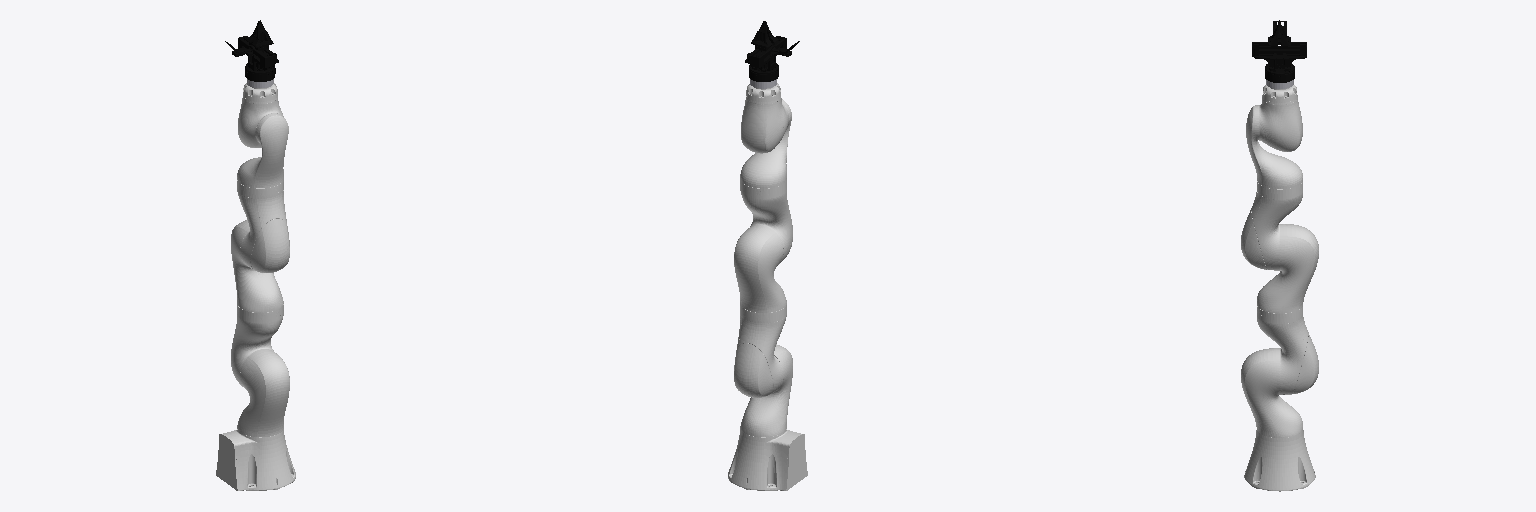
URDF robot description (lbr_iiwa7_r800):
<?xml version='1.0' encoding='utf-8'?>
<robot name="lbr_iiwa7_r800">
  <!-- KUKA LBR iiwa7 R800 (lbr-stack v2.5.0 meshes) + HandUMI gripper on lbr_link_ee. Generated from ~/Downloads/handumi_kuka_iiwa7/iiwa7/iiwa7_handumi.urdf: arm inertials added (approximate), arm collisions = visual meshes, mimic removed (drive both finger joints; q = opening/2 [m], 0..0.037). -->
  <link name="lbr_link_0">
    <inertial>
      <origin xyz="-0.1 0 0.07" rpy="0 0 0" />
      <mass value="3.0" />
      <inertia ixx="0.02" ixy="0" ixz="0" iyy="0.02" iyz="0" izz="0.02" />
    </inertial>
    <visual>
      <origin xyz="0 0 0" rpy="0 0 0" />
      <geometry>
        <mesh filename="meshes/arm/link_0.stl" />
      </geometry>
      <material name="kuka_grey">
        <color rgba="0.85 0.85 0.85 1" />
      </material>
    </visual>
    <collision>
      <origin xyz="0 0 0" rpy="0 0 0" />
      <geometry>
        <mesh filename="meshes/arm/link_0.stl" />
      </geometry>
    </collision>
  </link>
  <link name="lbr_link_1">
    <inertial>
      <origin xyz="0 -0.03 0.12" rpy="0 0 0" />
      <mass value="3.4525" />
      <inertia ixx="0.02" ixy="0" ixz="0" iyy="0.02" iyz="0" izz="0.02" />
    </inertial>
    <visual>
      <origin xyz="0 0 -0.1475" rpy="0 0 0" />
      <geometry>
        <mesh filename="meshes/arm/link_1.stl" />
      </geometry>
      <material name="kuka_grey">
        <color rgba="0.85 0.85 0.85 1" />
      </material>
    </visual>
    <collision>
      <origin xyz="0 0 -0.1475" rpy="0 0 0" />
      <geometry>
        <mesh filename="meshes/arm/link_1.stl" />
      </geometry>
    </collision>
  </link>
  <link name="lbr_link_2">
    <inertial>
      <origin xyz="0.0003 0.059 0.042" rpy="0 0 0" />
      <mass value="3.4821" />
      <inertia ixx="0.02" ixy="0" ixz="0" iyy="0.02" iyz="0" izz="0.02" />
    </inertial>
    <visual>
      <origin xyz="0 0.0105 -0.34" rpy="0 0 0" />
      <geometry>
        <mesh filename="meshes/arm/link_2.stl" />
      </geometry>
      <material name="kuka_grey">
        <color rgba="0.85 0.85 0.85 1" />
      </material>
    </visual>
    <collision>
      <origin xyz="0 0.0105 -0.34" rpy="0 0 0" />
      <geometry>
        <mesh filename="meshes/arm/link_2.stl" />
      </geometry>
    </collision>
  </link>
  <link name="lbr_link_3">
    <inertial>
      <origin xyz="0 0.03 0.13" rpy="0 0 0" />
      <mass value="4.05623" />
      <inertia ixx="0.02" ixy="0" ixz="0" iyy="0.02" iyz="0" izz="0.02" />
    </inertial>
    <visual>
      <origin xyz="0 0 -0.5475" rpy="0 0 0" />
      <geometry>
        <mesh filename="meshes/arm/link_3.stl" />
      </geometry>
      <material name="kuka_grey">
        <color rgba="0.85 0.85 0.85 1" />
      </material>
    </visual>
    <collision>
      <origin xyz="0 0 -0.5475" rpy="0 0 0" />
      <geometry>
        <mesh filename="meshes/arm/link_3.stl" />
      </geometry>
    </collision>
  </link>
  <link name="lbr_link_4">
    <inertial>
      <origin xyz="0 0.067 0.034" rpy="0 0 0" />
      <mass value="3.4822" />
      <inertia ixx="0.02" ixy="0" ixz="0" iyy="0.02" iyz="0" izz="0.02" />
    </inertial>
    <visual>
      <origin xyz="0 -0.0105 -0.74" rpy="0 0 0" />
      <geometry>
        <mesh filename="meshes/arm/link_4.stl" />
      </geometry>
      <material name="kuka_grey">
        <color rgba="0.85 0.85 0.85 1" />
      </material>
    </visual>
    <collision>
      <origin xyz="0 -0.0105 -0.74" rpy="0 0 0" />
      <geometry>
        <mesh filename="meshes/arm/link_4.stl" />
      </geometry>
    </collision>
  </link>
  <link name="lbr_link_5">
    <inertial>
      <origin xyz="0.0001 0.021 0.076" rpy="0 0 0" />
      <mass value="2.1633" />
      <inertia ixx="0.02" ixy="0" ixz="0" iyy="0.02" iyz="0" izz="0.02" />
    </inertial>
    <visual>
      <origin xyz="0 0 -0.9475" rpy="0 0 0" />
      <geometry>
        <mesh filename="meshes/arm/link_5.stl" />
      </geometry>
      <material name="kuka_grey">
        <color rgba="0.85 0.85 0.85 1" />
      </material>
    </visual>
    <collision>
      <origin xyz="0 0 -0.9475" rpy="0 0 0" />
      <geometry>
        <mesh filename="meshes/arm/link_5.stl" />
      </geometry>
    </collision>
  </link>
  <link name="lbr_link_6">
    <inertial>
      <origin xyz="0 0.0006 0.0004" rpy="0 0 0" />
      <mass value="2.3466" />
      <inertia ixx="0.02" ixy="0" ixz="0" iyy="0.02" iyz="0" izz="0.02" />
    </inertial>
    <visual>
      <origin xyz="0 0.0707 -1.14" rpy="0 0 0" />
      <geometry>
        <mesh filename="meshes/arm/link_6.stl" />
      </geometry>
      <material name="kuka_grey">
        <color rgba="0.85 0.85 0.85 1" />
      </material>
    </visual>
    <collision>
      <origin xyz="0 0.0707 -1.14" rpy="0 0 0" />
      <geometry>
        <mesh filename="meshes/arm/link_6.stl" />
      </geometry>
    </collision>
  </link>
  <link name="lbr_link_7">
    <inertial>
      <origin xyz="0 0 0.02" rpy="0 0 0" />
      <mass value="3.129" />
      <inertia ixx="0.02" ixy="0" ixz="0" iyy="0.02" iyz="0" izz="0.02" />
    </inertial>
    <visual>
      <origin xyz="0 0 -1.231" rpy="0 0 0" />
      <geometry>
        <mesh filename="meshes/arm/link_7.stl" />
      </geometry>
      <material name="kuka_grey">
        <color rgba="0.85 0.85 0.85 1" />
      </material>
    </visual>
    <collision>
      <origin xyz="0 0 -1.231" rpy="0 0 0" />
      <geometry>
        <mesh filename="meshes/arm/link_7.stl" />
      </geometry>
    </collision>
  </link>
  <joint name="lbr_A1" type="revolute">
    <origin xyz="0 0 0.1475" rpy="0 0 0" />
    <parent link="lbr_link_0" />
    <child link="lbr_link_1" />
    <axis xyz="0 0 1" />
    <limit lower="-2.9671" upper="2.9671" effort="200" velocity="2" />
  </joint>
  <joint name="lbr_A2" type="revolute">
    <origin xyz="0 -0.0105 0.1925" rpy="0 0 0" />
    <parent link="lbr_link_1" />
    <child link="lbr_link_2" />
    <axis xyz="0 1 0" />
    <limit lower="-2.0944" upper="2.0944" effort="200" velocity="2" />
  </joint>
  <joint name="lbr_A3" type="revolute">
    <origin xyz="0 0.0105 0.2075" rpy="0 0 0" />
    <parent link="lbr_link_2" />
    <child link="lbr_link_3" />
    <axis xyz="0 0 1" />
    <limit lower="-2.9671" upper="2.9671" effort="200" velocity="2" />
  </joint>
  <joint name="lbr_A4" type="revolute">
    <origin xyz="0 0.0105 0.1925" rpy="0 0 0" />
    <parent link="lbr_link_3" />
    <child link="lbr_link_4" />
    <axis xyz="0 -1 0" />
    <limit lower="-2.0944" upper="2.0944" effort="200" velocity="2" />
  </joint>
  <joint name="lbr_A5" type="revolute">
    <origin xyz="0 -0.0105 0.2075" rpy="0 0 0" />
    <parent link="lbr_link_4" />
    <child link="lbr_link_5" />
    <axis xyz="0 0 1" />
    <limit lower="-2.9671" upper="2.9671" effort="200" velocity="2" />
  </joint>
  <joint name="lbr_A6" type="revolute">
    <origin xyz="0 -0.0707 0.1925" rpy="0 0 0" />
    <parent link="lbr_link_5" />
    <child link="lbr_link_6" />
    <axis xyz="0 1 0" />
    <limit lower="-2.0944" upper="2.0944" effort="200" velocity="2" />
  </joint>
  <joint name="lbr_A7" type="revolute">
    <origin xyz="0 0.0707 0.091" rpy="0 0 0" />
    <parent link="lbr_link_6" />
    <child link="lbr_link_7" />
    <axis xyz="0 0 1" />
    <limit lower="-3.0543" upper="3.0543" effort="200" velocity="2" />
  </joint>
  <link name="lbr_link_ee">
    <inertial>
      <origin xyz="0 0 0" rpy="0 0 0" />
      <mass value="0.001" />
      <inertia ixx="1e-07" ixy="0" ixz="0" iyy="1e-07" iyz="0" izz="1e-07" />
    </inertial>
  </link>
  <joint name="lbr_joint_ee" type="fixed">
    <origin xyz="0 0 0.035" rpy="0 0 0" />
    <parent link="lbr_link_7" />
    <child link="lbr_link_ee" />
  </joint>
  <link name="gripper_assembly_root">
    <inertial>
      <origin xyz="0 0 0" rpy="0 0 0" />
      <mass value="0.001" />
      <inertia ixx="1e-07" ixy="0" ixz="0" iyy="1e-07" iyz="0" izz="1e-07" />
    </inertial>
    <!-- media flange: fills the 22 mm from the iiwa flange face to the gripper mount plate -->
    <visual name="media_flange">
      <origin xyz="0 0 -0.011" rpy="0 0 0" />
      <geometry>
        <cylinder radius="0.04" length="0.022" />
      </geometry>
      <material name="media_flange">
        <color rgba="0.75 0.75 0.78 1" />
      </material>
    </visual>
    <collision>
      <origin xyz="0 0 -0.011" rpy="0 0 0" />
      <geometry>
        <cylinder radius="0.04" length="0.022" />
      </geometry>
    </collision>
  </link>
  <link name="gripper_cad_export">
    <inertial>
      <origin xyz="0 0 0" rpy="0 0 0" />
      <mass value="0.001" />
      <inertia ixx="1e-07" ixy="0" ixz="0" iyy="1e-07" iyz="0" izz="1e-07" />
    </inertial>
  </link>
  <link name="gripper_mount_for_kuka">
    <inertial>
      <origin xyz="-0.250492311 -0.00575342481 0.2274575" rpy="0 0 0" />
      <mass value="0.097339" />
      <inertia ixx="6.86726e-05" ixy="-1.4764e-09" ixz="-2.70074e-06" iyy="0.000127436" iyz="6.39343e-08" izz="6.8288e-05" />
    </inertial>
    <visual>
      <origin xyz="0 0 0" rpy="0 0 0" />
      <geometry>
        <mesh filename="meshes/gripper/mount_for_kuka.stl" scale="0.001 0.001 0.001" />
      </geometry>
      <material name="gripper_mat_mount_for_kuka">
        <color rgba="0.08 0.08 0.08 1" />
      </material>
    </visual>
    <collision>
      <origin xyz="0 0 0" rpy="0 0 0" />
      <geometry>
        <mesh filename="meshes/gripper/mount_for_kuka.stl" scale="0.001 0.001 0.001" />
      </geometry>
    </collision>
  </link>
  <link name="gripper_gripper_backplate">
    <inertial>
      <origin xyz="-0.249580061 0.0423394627 0.238040124" rpy="0 0 0" />
      <mass value="0.146967" />
      <inertia ixx="0.000142478" ixy="-9.59539e-07" ixz="-8.19191e-07" iyy="0.000319168" iyz="-2.63102e-05" izz="0.000340198" />
    </inertial>
    <visual>
      <origin xyz="0 0 0" rpy="0 0 0" />
      <geometry>
        <mesh filename="meshes/gripper/gripper_backplate.stl" scale="0.001 0.001 0.001" />
      </geometry>
      <material name="gripper_mat_gripper_backplate">
        <color rgba="0.08 0.08 0.08 1" />
      </material>
    </visual>
    <collision>
      <origin xyz="0 0 0" rpy="0 0 0" />
      <geometry>
        <mesh filename="meshes/gripper/gripper_backplate.stl" scale="0.001 0.001 0.001" />
      </geometry>
    </collision>
  </link>
  <link name="gripper_bridge_rails_support">
    <inertial>
      <origin xyz="-0.249982655 0.0666288882 0.230457901" rpy="0 0 0" />
      <mass value="0.0401213" />
      <inertia ixx="6.5962e-06" ixy="3.28405e-09" ixz="2.48834e-09" iyy="0.000126062" iyz="1.59967e-09" izz="0.000121678" />
    </inertial>
    <visual>
      <origin xyz="0 0 0" rpy="0 0 0" />
      <geometry>
        <mesh filename="meshes/gripper/bridge_rails_support.stl" scale="0.001 0.001 0.001" />
      </geometry>
      <material name="gripper_mat_bridge_rails_support">
        <color rgba="0.08 0.08 0.08 1" />
      </material>
    </visual>
    <collision>
      <origin xyz="0 0 0" rpy="0 0 0" />
      <geometry>
        <mesh filename="meshes/gripper/bridge_rails_support.stl" scale="0.001 0.001 0.001" />
      </geometry>
    </collision>
  </link>
  <link name="gripper_camera_mount">
    <inertial>
      <origin xyz="-0.248478921 0.0916342374 0.318872858" rpy="0 0 0" />
      <mass value="0.00355933" />
      <inertia ixx="8.81414e-07" ixy="-6.36091e-09" ixz="-4.05276e-09" iyy="8.73228e-07" iyz="-4.29069e-07" izz="1.03709e-06" />
    </inertial>
    <visual>
      <origin xyz="0 0 0" rpy="0 0 0" />
      <geometry>
        <mesh filename="meshes/gripper/camera_mount.stl" scale="0.001 0.001 0.001" />
      </geometry>
      <material name="gripper_mat_camera_mount">
        <color rgba="0.08 0.08 0.08 1" />
      </material>
    </visual>
    <collision>
      <origin xyz="0 0 0" rpy="0 0 0" />
      <geometry>
        <mesh filename="meshes/gripper/camera_mount.stl" scale="0.001 0.001 0.001" />
      </geometry>
    </collision>
  </link>
  <link name="gripper_camera_anchor_left">
    <inertial>
      <origin xyz="-0.254904738 0.0734570046 0.299755218" rpy="0 0 0" />
      <mass value="0.00424789" />
      <inertia ixx="4.36563e-07" ixy="3.2004e-10" ixz="-6.93121e-09" iyy="4.14356e-07" iyz="1.54062e-08" izz="1.25778e-07" />
    </inertial>
    <visual>
      <origin xyz="0 0 0" rpy="0 0 0" />
      <geometry>
        <mesh filename="meshes/gripper/camera_anchor_left.stl" scale="0.001 0.001 0.001" />
      </geometry>
      <material name="gripper_mat_camera_anchor_left">
        <color rgba="0.08 0.08 0.08 1" />
      </material>
    </visual>
    <collision>
      <origin xyz="0 0 0" rpy="0 0 0" />
      <geometry>
        <mesh filename="meshes/gripper/camera_anchor_left.stl" scale="0.001 0.001 0.001" />
      </geometry>
    </collision>
  </link>
  <link name="gripper_camera_anchor_right">
    <inertial>
      <origin xyz="-0.243001481 0.073459592 0.299696673" rpy="0 0 0" />
      <mass value="0.00392497" />
      <inertia ixx="4.02177e-07" ixy="-2.85614e-10" ixz="6.18317e-09" iyy="3.74305e-07" iyz="1.4168e-08" izz="1.07722e-07" />
    </inertial>
    <visual>
      <origin xyz="0 0 0" rpy="0 0 0" />
      <geometry>
        <mesh filename="meshes/gripper/camera_anchor_right.stl" scale="0.001 0.001 0.001" />
      </geometry>
      <material name="gripper_mat_camera_anchor_right">
        <color rgba="0.08 0.08 0.08 1" />
      </material>
    </visual>
    <collision>
      <origin xyz="0 0 0" rpy="0 0 0" />
      <geometry>
        <mesh filename="meshes/gripper/camera_anchor_right.stl" scale="0.001 0.001 0.001" />
      </geometry>
    </collision>
  </link>
  <link name="gripper_finger_left">
    <inertial>
      <origin xyz="-0.294301229 0.100061954 0.229815742" rpy="0 0 0" />
      <mass value="0.0452896" />
      <inertia ixx="2.07618e-05" ixy="-2.94113e-06" ixz="2.66412e-07" iyy="1.01118e-05" iyz="1.12622e-06" izz="1.54453e-05" />
    </inertial>
    <visual>
      <origin xyz="0 0 0" rpy="0 0 0" />
      <geometry>
        <mesh filename="meshes/gripper/finger_backbone_left.stl" scale="0.001 0.001 0.001" />
      </geometry>
      <material name="gripper_mat_finger_left_0">
        <color rgba="0.08 0.08 0.08 1" />
      </material>
    </visual>
    <collision>
      <origin xyz="0 0 0" rpy="0 0 0" />
      <geometry>
        <mesh filename="meshes/gripper/finger_backbone_left.stl" scale="0.001 0.001 0.001" />
      </geometry>
    </collision>
    <visual>
      <origin xyz="0 0 0" rpy="0 0 0" />
      <geometry>
        <mesh filename="meshes/gripper/finger_adaptor_left.stl" scale="0.001 0.001 0.001" />
      </geometry>
      <material name="gripper_mat_finger_left_1">
        <color rgba="0.08 0.08 0.08 1" />
      </material>
    </visual>
    <collision>
      <origin xyz="0 0 0" rpy="0 0 0" />
      <geometry>
        <mesh filename="meshes/gripper/finger_adaptor_left.stl" scale="0.001 0.001 0.001" />
      </geometry>
    </collision>
  </link>
  <link name="gripper_fingertip_left">
    <inertial>
      <origin xyz="0 0 0" rpy="0 0 0" />
      <mass value="0.001" />
      <inertia ixx="1e-07" ixy="0" ixz="0" iyy="1e-07" iyz="0" izz="1e-07" />
    </inertial>
  </link>
  <link name="gripper_finger_right">
    <inertial>
      <origin xyz="-0.204323819 0.100061816 0.229815746" rpy="0 0 0" />
      <mass value="0.0452895" />
      <inertia ixx="2.07618e-05" ixy="2.94099e-06" ixz="-2.66407e-07" iyy="1.01117e-05" iyz="1.12622e-06" izz="1.54453e-05" />
    </inertial>
    <visual>
      <origin xyz="0 0 0" rpy="0 0 0" />
      <geometry>
        <mesh filename="meshes/gripper/finger_backbone_right.stl" scale="0.001 0.001 0.001" />
      </geometry>
      <material name="gripper_mat_finger_right_0">
        <color rgba="0.08 0.08 0.08 1" />
      </material>
    </visual>
    <collision>
      <origin xyz="0 0 0" rpy="0 0 0" />
      <geometry>
        <mesh filename="meshes/gripper/finger_backbone_right.stl" scale="0.001 0.001 0.001" />
      </geometry>
    </collision>
    <visual>
      <origin xyz="0 0 0" rpy="0 0 0" />
      <geometry>
        <mesh filename="meshes/gripper/finger_adaptor_right.stl" scale="0.001 0.001 0.001" />
      </geometry>
      <material name="gripper_mat_finger_right_1">
        <color rgba="0.08 0.08 0.08 1" />
      </material>
    </visual>
    <collision>
      <origin xyz="0 0 0" rpy="0 0 0" />
      <geometry>
        <mesh filename="meshes/gripper/finger_adaptor_right.stl" scale="0.001 0.001 0.001" />
      </geometry>
    </collision>
  </link>
  <link name="gripper_fingertip_right">
    <inertial>
      <origin xyz="0 0 0" rpy="0 0 0" />
      <mass value="0.001" />
      <inertia ixx="1e-07" ixy="0" ixz="0" iyy="1e-07" iyz="0" izz="1e-07" />
    </inertial>
  </link>
  <link name="gripper_arducam">
    <inertial>
      <origin xyz="7.76389481e-05 0.000156582725 -0.00990939331" rpy="0 0 0" />
      <mass value="0.0160085" />
      <inertia ixx="1.4635e-06" ixy="1.12288e-08" ixz="-8.62103e-09" iyy="1.42295e-06" iyz="2.35554e-08" izz="1.57413e-06" />
    </inertial>
    <visual>
      <origin xyz="0 0 0" rpy="0 0 0" />
      <geometry>
        <mesh filename="meshes/gripper/arducam_uc684.stl" scale="0.001 0.001 0.001" />
      </geometry>
      <material name="gripper_mat_arducam">
        <color rgba="0.1 0.3 0.15 1" />
      </material>
    </visual>
    <collision>
      <origin xyz="0 0 0" rpy="0 0 0" />
      <geometry>
        <mesh filename="meshes/gripper/arducam_uc684.stl" scale="0.001 0.001 0.001" />
      </geometry>
    </collision>
  </link>
  <link name="gripper_arducam_optical">
    <inertial>
      <origin xyz="0 0 0" rpy="0 0 0" />
      <mass value="0.001" />
      <inertia ixx="1e-07" ixy="0" ixz="0" iyy="1e-07" iyz="0" izz="1e-07" />
    </inertial>
  </link>
  <link name="gripper_fingertip_center">
    <inertial>
      <origin xyz="0 0 0" rpy="0 0 0" />
      <mass value="0.001" />
      <inertia ixx="1e-07" ixy="0" ixz="0" iyy="1e-07" iyz="0" izz="1e-07" />
    </inertial>
  </link>
  <joint name="gripper_flange__gripper" type="fixed">
    <!-- 22 mm media flange (silver, ports + button) between the iiwa flange and the gripper mount; mount rotated
         180 deg about the flange z. Both from kuka_easyhec check_mount.py on the calibration photos -->
    <origin xyz="0 0 0.022" rpy="0 0 3.14159265" />
    <parent link="lbr_link_ee" />
    <child link="gripper_assembly_root" />
  </joint>
  <joint name="gripper_root__cad" type="fixed">
    <origin xyz="-0.2275 0.2505 0.018" rpy="1.57079633 0 1.57079633" />
    <parent link="gripper_assembly_root" />
    <child link="gripper_cad_export" />
  </joint>
  <joint name="gripper_cad__mount_for_kuka" type="fixed">
    <origin xyz="0 0 0" rpy="0 0 0" />
    <parent link="gripper_cad_export" />
    <child link="gripper_mount_for_kuka" />
  </joint>
  <joint name="gripper_cad__gripper_backplate" type="fixed">
    <origin xyz="0 0 0" rpy="0 0 0" />
    <parent link="gripper_cad_export" />
    <child link="gripper_gripper_backplate" />
  </joint>
  <joint name="gripper_cad__bridge_rails_support" type="fixed">
    <origin xyz="0 0 0" rpy="0 0 0" />
    <parent link="gripper_cad_export" />
    <child link="gripper_bridge_rails_support" />
  </joint>
  <joint name="gripper_cad__camera_mount" type="fixed">
    <origin xyz="0 0 0" rpy="0 0 0" />
    <parent link="gripper_cad_export" />
    <child link="gripper_camera_mount" />
  </joint>
  <joint name="gripper_cad__camera_anchor_left" type="fixed">
    <origin xyz="0 0 0" rpy="0 0 0" />
    <parent link="gripper_cad_export" />
    <child link="gripper_camera_anchor_left" />
  </joint>
  <joint name="gripper_cad__camera_anchor_right" type="fixed">
    <origin xyz="0 0 0" rpy="0 0 0" />
    <parent link="gripper_cad_export" />
    <child link="gripper_camera_anchor_right" />
  </joint>
  <joint name="gripper_finger_left_joint" type="prismatic">
    <origin xyz="0.0310306778 0 0" rpy="0 0 0" />
    <parent link="gripper_cad_export" />
    <child link="gripper_finger_left" />
    <axis xyz="-1 0 0" />
    <limit lower="0" upper="0.037" effort="100.0" velocity="0.2" />
  </joint>
  <joint name="gripper_finger_left__tip" type="fixed">
    <origin xyz="-0.280343109 0.159840393 0.23103923" rpy="1.57079633 0 1.57079633" />
    <parent link="gripper_finger_left" />
    <child link="gripper_fingertip_left" />
  </joint>
  <joint name="gripper_finger_right_joint" type="prismatic">
    <origin xyz="-0.0310306778 0 0" rpy="0 0 0" />
    <parent link="gripper_cad_export" />
    <child link="gripper_finger_right" />
    <axis xyz="1 0 0" />
    <limit lower="0" upper="0.037" effort="100.0" velocity="0.2" />
  </joint>
  <joint name="gripper_finger_right__tip" type="fixed">
    <origin xyz="-0.218281754 0.159840393 0.23103923" rpy="1.57079633 0 1.57079633" />
    <parent link="gripper_finger_right" />
    <child link="gripper_fingertip_right" />
  </joint>
  <joint name="gripper_camera_mount__arducam" type="fixed">
    <origin xyz="-0.24934 0.09449 0.31986" rpy="0.698131701 0 0" />
    <parent link="gripper_camera_mount" />
    <child link="gripper_arducam" />
  </joint>
  <joint name="gripper_arducam__optical" type="fixed">
    <origin xyz="0 0 -0.0252" rpy="3.14159265 0 0" />
    <parent link="gripper_arducam" />
    <child link="gripper_arducam_optical" />
  </joint>
  <joint name="gripper_cad__fingertip_center" type="fixed">
    <origin xyz="-0.249312576 0.159840393 0.23103923" rpy="1.57079633 0 1.57079633" />
    <parent link="gripper_cad_export" />
    <child link="gripper_fingertip_center" />
  </joint>
</robot>

--- What the picture shows (computed from the rendered views, not written in the file) ---
Views: 3 orthographic renders of the robot side by side, from view 1: azimuth 30°, elevation 25°; view 2: azimuth 150°, elevation 25°; view 3: azimuth 270°, elevation 25°.
Model lbr_iiwa7_r800 with 24 links and 23 joints (7 revolute, 2 prismatic, 14 fixed), rooted at lbr_link_0, posed all joints at 0.
Visible links, largest first — view 1: lbr_link_0, lbr_link_4, lbr_link_1, lbr_link_5, lbr_link_3, lbr_link_2, lbr_link_6, gripper_gripper_backplate; view 2: lbr_link_0, lbr_link_2, lbr_link_3, lbr_link_1, lbr_link_6, lbr_link_4, lbr_link_5, gripper_gripper_backplate; view 3: lbr_link_1, lbr_link_3, lbr_link_0, lbr_link_4, lbr_link_2, lbr_link_5, lbr_link_6, gripper_gripper_backplate.
Boxes of the visible links, x1,y1,x2,y2 form: lbr_link_0: [216, 429, 295, 490]; lbr_link_4: [237, 180, 289, 272]; lbr_link_1: [237, 349, 289, 436]; lbr_link_5: [237, 113, 288, 187]; lbr_link_3: [231, 220, 283, 312]; lbr_link_2: [231, 304, 283, 386]; lbr_link_6: [238, 96, 283, 147]; gripper_gripper_backplate: [236, 36, 278, 73]; lbr_link_0: [728, 429, 807, 490]; lbr_link_2: [734, 305, 786, 397]; lbr_link_3: [734, 225, 786, 312]; lbr_link_1: [740, 344, 792, 436]; lbr_link_6: [741, 96, 788, 153]; lbr_link_4: [740, 180, 792, 264]; lbr_link_5: [740, 99, 791, 188]; gripper_gripper_backplate: [745, 36, 786, 73]; lbr_link_1: [1241, 348, 1302, 437]; lbr_link_3: [1257, 224, 1318, 313]; lbr_link_0: [1244, 430, 1315, 491]; lbr_link_4: [1241, 181, 1302, 270]; lbr_link_2: [1257, 306, 1318, 394]; lbr_link_5: [1246, 105, 1302, 188]; lbr_link_6: [1259, 96, 1302, 151]; gripper_gripper_backplate: [1252, 39, 1306, 74].
Size in the robot's own frame: 0.217 by 0.2292 by 1.47 metres.
Meshes: 19 distinct files referenced, 18 mesh visuals loaded (18 binary STL); not drawn: 1 (reference not matched to a file when rendering).
